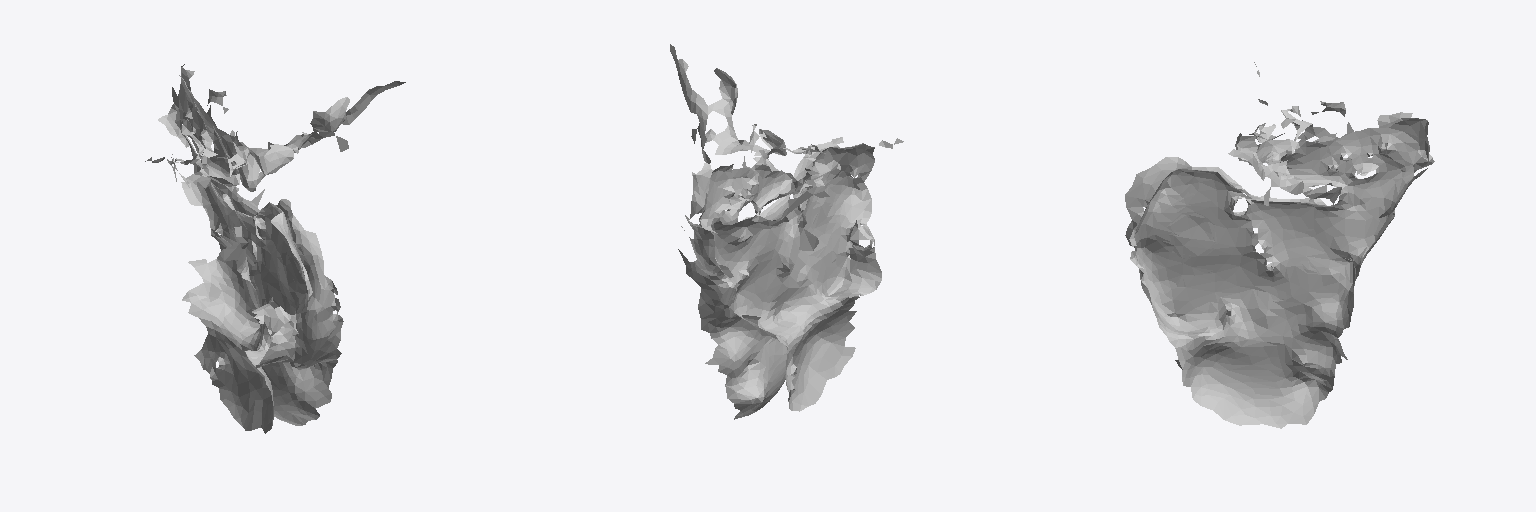
File: Cerebellum-Vermis.obj
3 views of the same model, side by side, from view 1: azimuth 30°, elevation 25°; view 2: azimuth 150°, elevation 25°; view 3: azimuth 270°, elevation 25° (orthographic).
Parts seen in each view (by area): view 1: Cerebellum-_Vermis_Cerebellum(new).000; view 2: Cerebellum-_Vermis_Cerebellum(new).000; view 3: Cerebellum-_Vermis_Cerebellum(new).000.
Boxes of the visible parts, x1,y1,x2,y2 form: Cerebellum-_Vermis_Cerebellum(new).000: [145, 64, 405, 433]; Cerebellum-_Vermis_Cerebellum(new).000: [670, 44, 903, 419]; Cerebellum-_Vermis_Cerebellum(new).000: [1125, 62, 1434, 428].
Size of the model in its own units: 138 by 174 by 149.